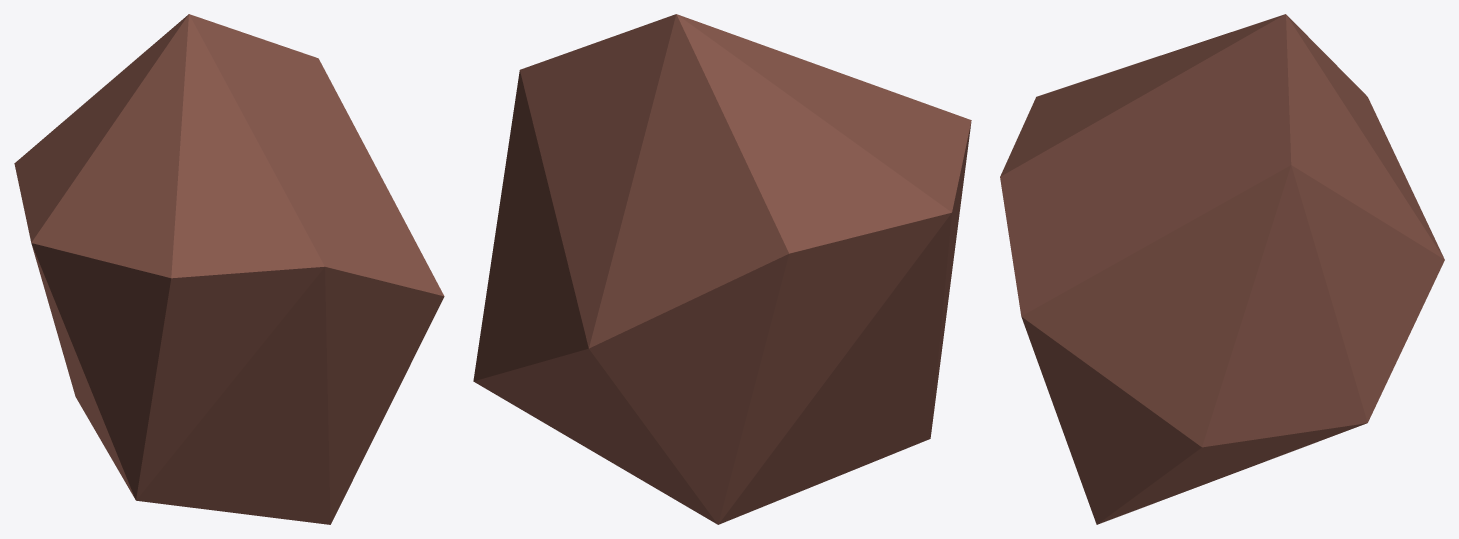
Rendered from Rock3.fbx.
The picture shows the model from 3 angles, left to right: view 1: azimuth 30°, elevation 25°; view 2: azimuth 150°, elevation 25°; view 3: azimuth 270°, elevation 25°; orthographic projection. The views are drawn at different scales.
Parts seen in each view (by area): view 1: Rock3; view 2: Rock3; view 3: Rock3.
Boxes of the visible parts, bbox=[...] form: Rock3: bbox=[14, 14, 444, 524]; Rock3: bbox=[473, 14, 971, 524]; Rock3: bbox=[1000, 14, 1444, 524].
Bounding box in the file's own units: 0.487 × 0.5399 × 0.4497.
